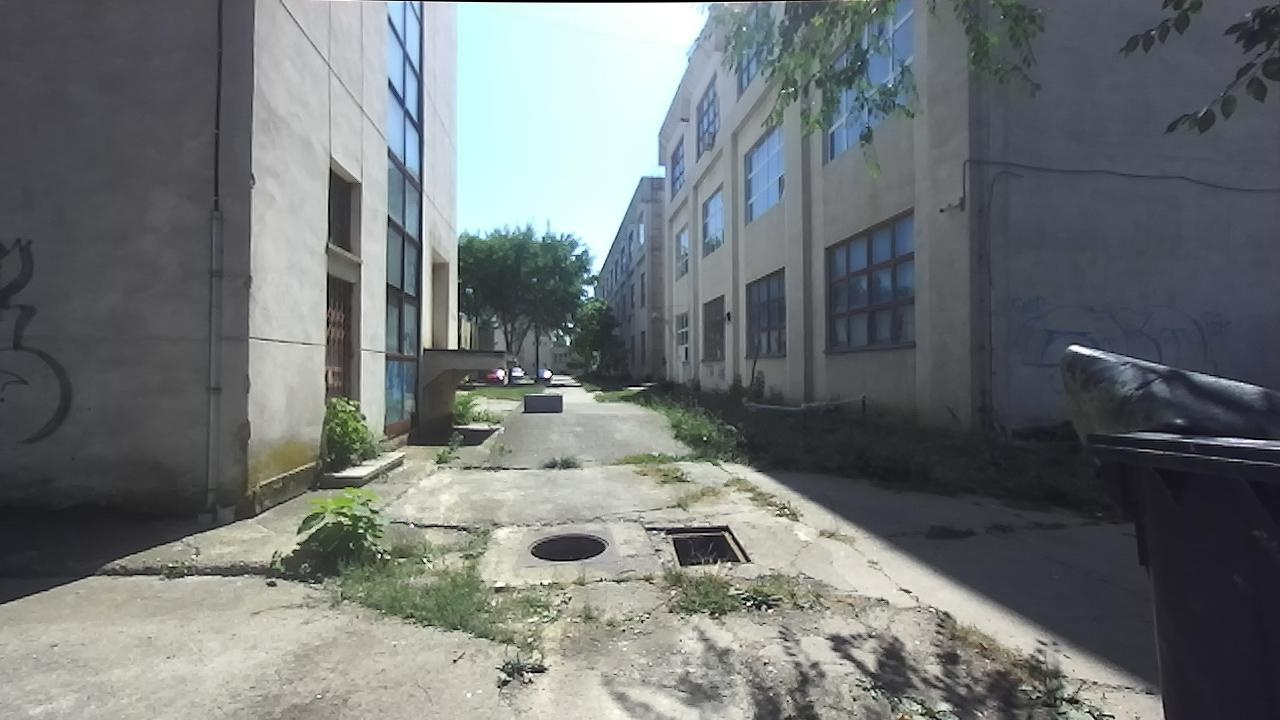drain: (664, 520, 756, 568), (523, 528, 612, 561)
